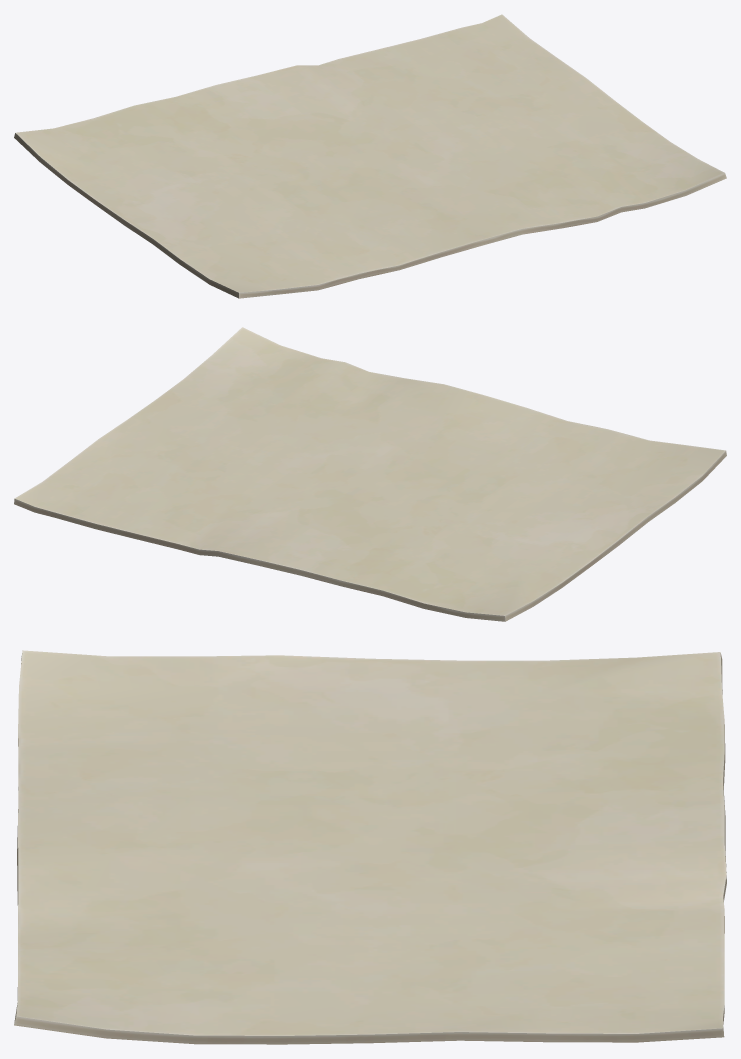
The model's file is SM_BurgerPackagingPaper.glb.
3 renders of one model, top to bottom at view 1: azimuth 30°, elevation 25°; view 2: azimuth 150°, elevation 25°; view 3: azimuth 270°, elevation 25°, orthographic. The views are drawn at different scales.
Visible parts, largest first — view 1: SM_BurgerPackagingPaper; view 2: SM_BurgerPackagingPaper; view 3: SM_BurgerPackagingPaper.
Part boxes in pixels (left/top/right/bottom): SM_BurgerPackagingPaper: left=14, top=14, right=726, bottom=298; SM_BurgerPackagingPaper: left=14, top=327, right=726, bottom=621; SM_BurgerPackagingPaper: left=14, top=650, right=726, bottom=1044.
Bounding box in the file's own units: 0.5192 × 0.0192 × 0.4156.
Materials: 1 (1 with a texture image).
